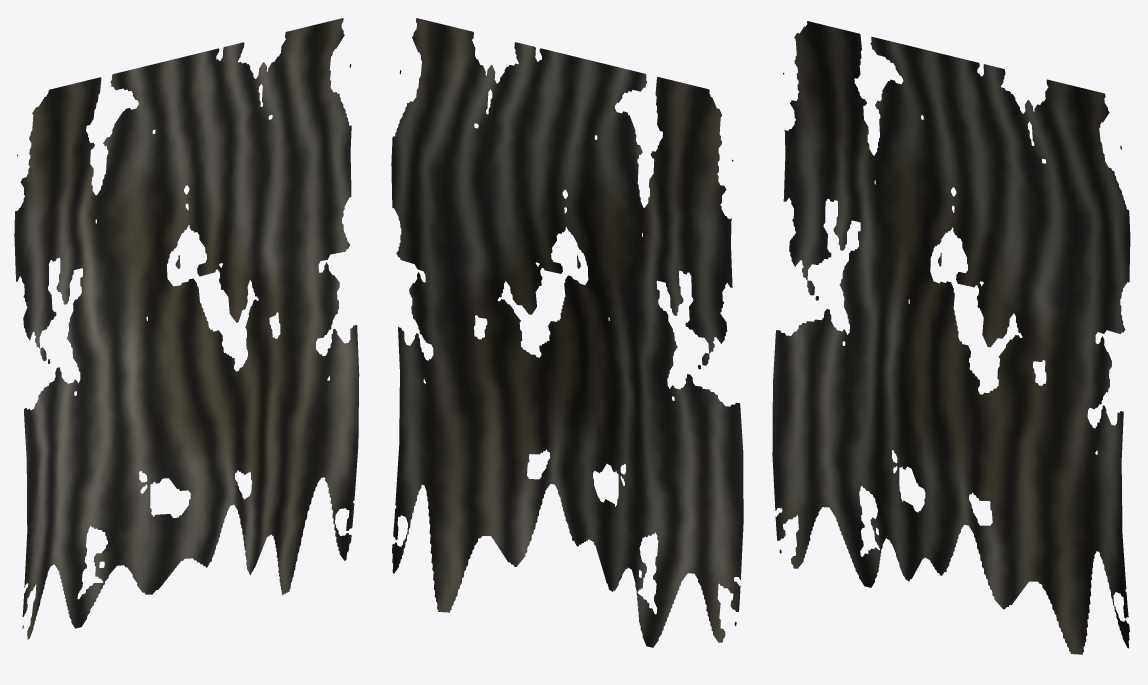
Rendered from sheet_hang.glb.
3 renders of one model, left to right at view 1: azimuth 30°, elevation 25°; view 2: azimuth 150°, elevation 25°; view 3: azimuth 330°, elevation 25°, orthographic.
Parts seen in each view (by area): view 1: sheet_hang; view 2: sheet_hang; view 3: sheet_hang.
Part boxes in pixels (box(x1,y1,x2,y2)): sheet_hang: box(14, 18, 359, 639); sheet_hang: box(391, 18, 743, 647); sheet_hang: box(772, 21, 1130, 654).
Size of the model in its own units: 1.6 by 2.6 by 0.2769.
Materials: 1 (1 with a texture image).
